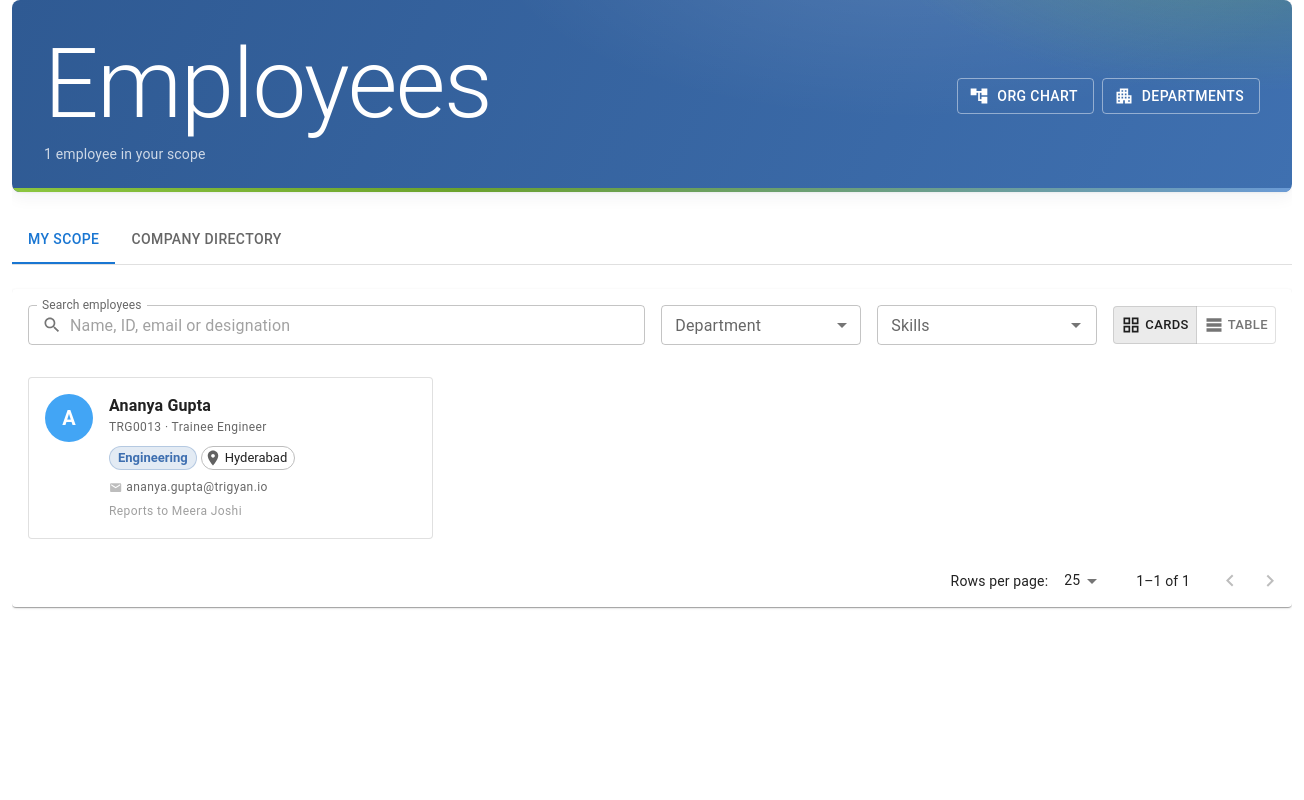
Test: EmployeesPage, the Role column › is in the table for HR
Expected: the text "Ananya Gupta" is shown, top-left (109, 396), bottom-right (211, 415)
Click the button "Table" at x=1236, y=325, box top-left (1196, 306), bottom-right (1276, 344)
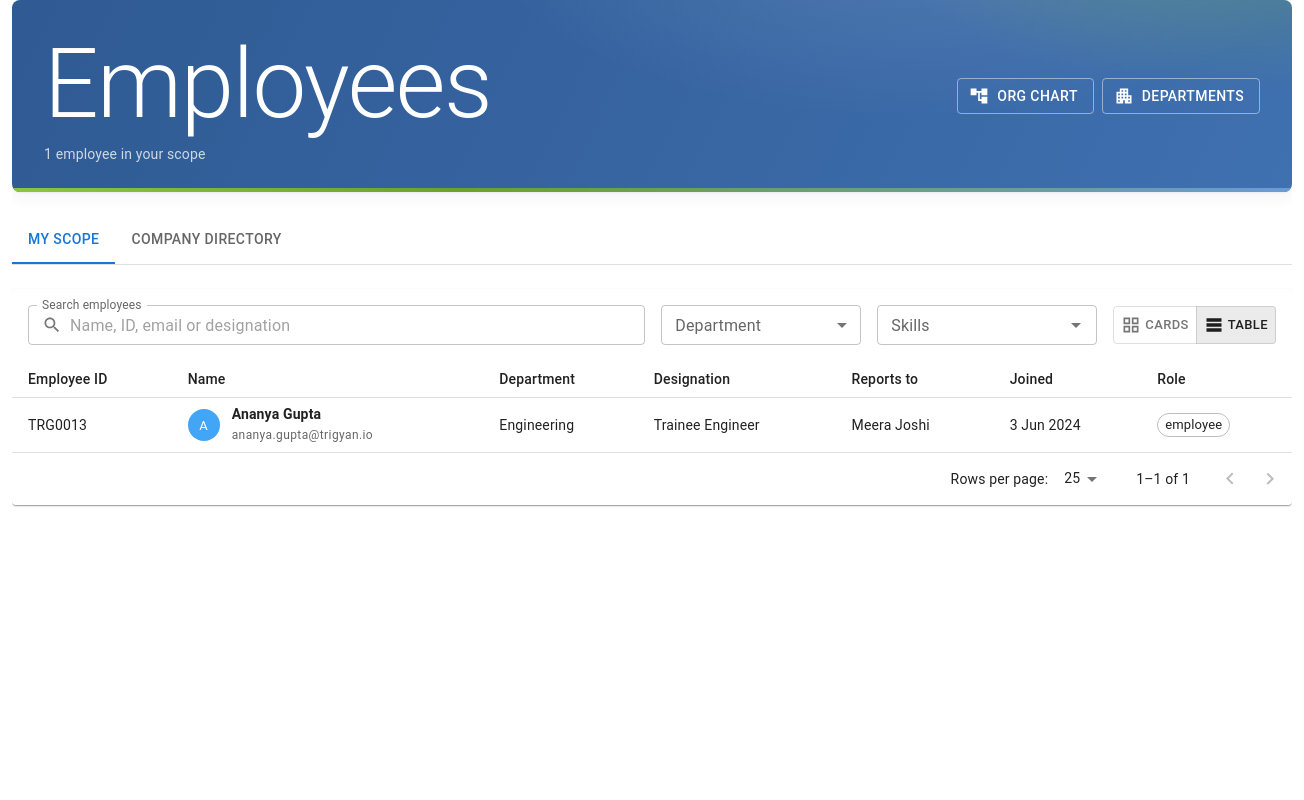
Expected: the column heading "Role" is shown, top-left (1141, 361), bottom-right (1292, 398)
